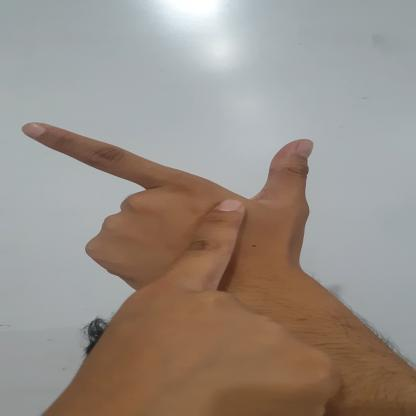Y: (19, 121, 317, 355)
